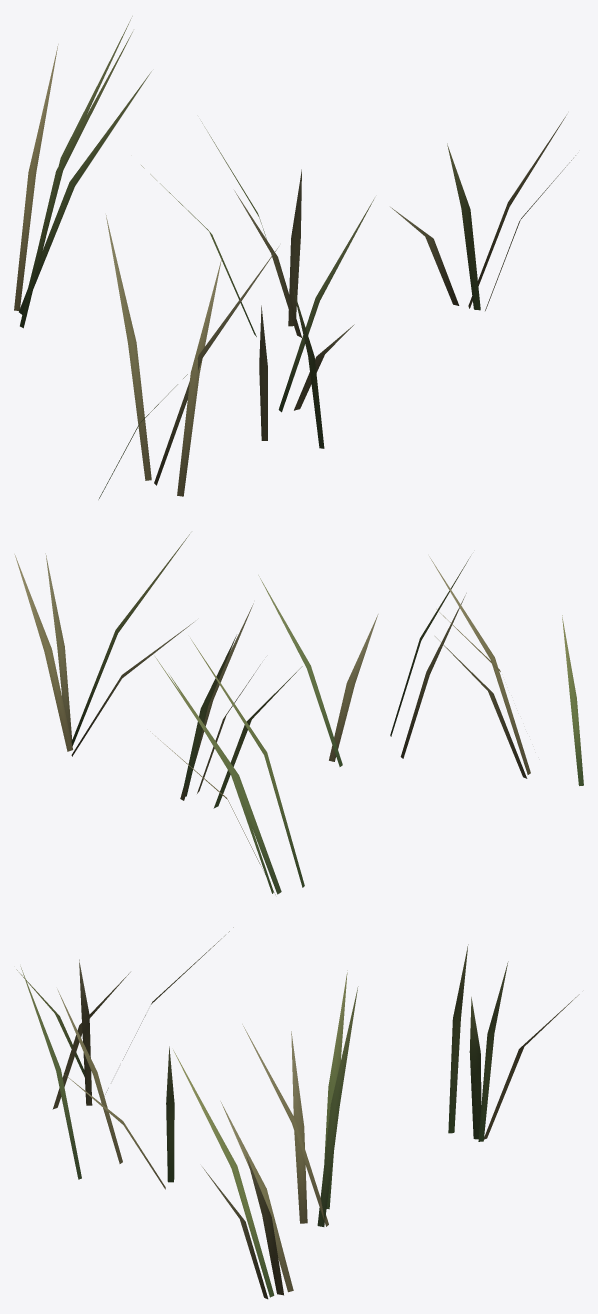
The model's file is meadow_dry_mid.gltf.
The picture shows the model from 3 angles, top to bottom: view 1: azimuth 30°, elevation 25°; view 2: azimuth 150°, elevation 25°; view 3: azimuth 270°, elevation 25°; orthographic projection. The views are drawn at different scales.
Parts seen in each view (by area): view 1: meadow_dry_mid; view 2: meadow_dry_mid; view 3: meadow_dry_mid.
Part boxes in pixels (x1,y1,x2,y2): meadow_dry_mid: (14,16,575,499); meadow_dry_mid: (14,534,583,894); meadow_dry_mid: (16,927,579,1299).
Size of the model in its own units: 1.15 by 0.5193 by 1.09.
Materials: 3 (3 with a texture image).
